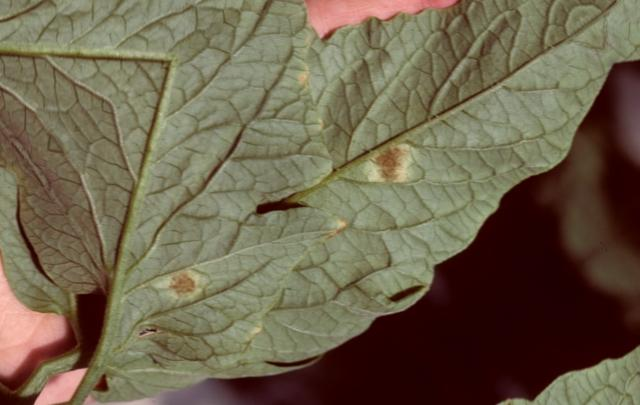Tomato mold leaf: (20, 0, 640, 405), (0, 0, 478, 405)
